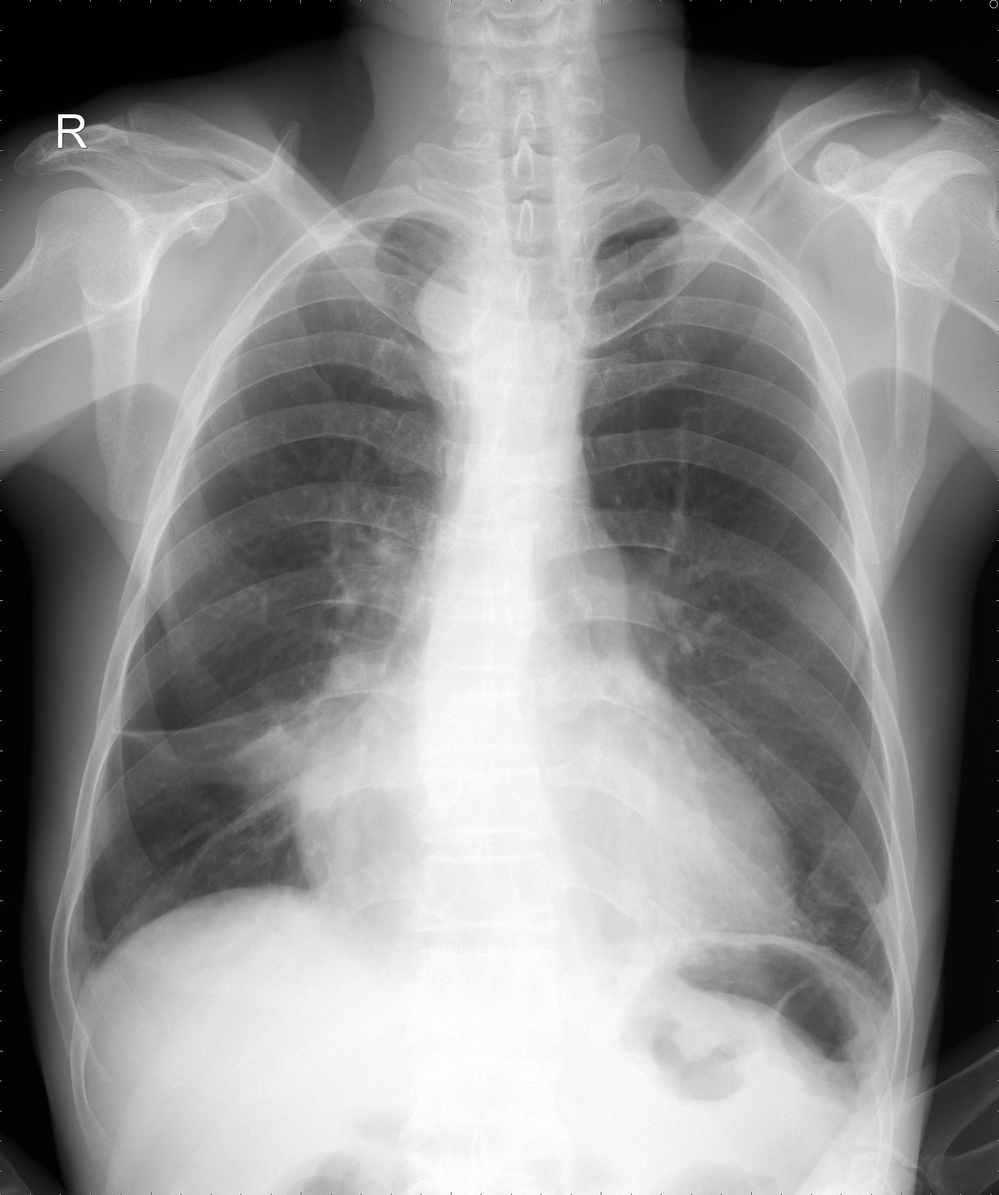Cardiomegaly: (287, 758, 804, 957)
Pulmonary fibrosis: (108, 694, 433, 798)
